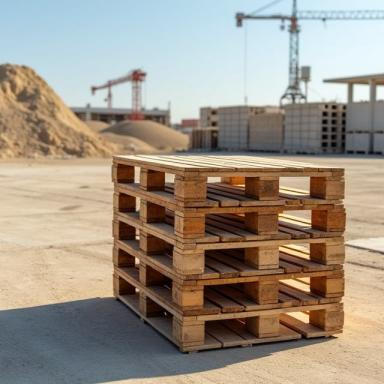pallet: (113, 268, 344, 354), (113, 239, 345, 316), (112, 213, 346, 280), (113, 187, 346, 243), (111, 154, 345, 207), (203, 283, 245, 307), (279, 311, 310, 336), (205, 248, 245, 267), (279, 243, 310, 260), (279, 278, 310, 294), (146, 274, 173, 292), (279, 177, 310, 191)
